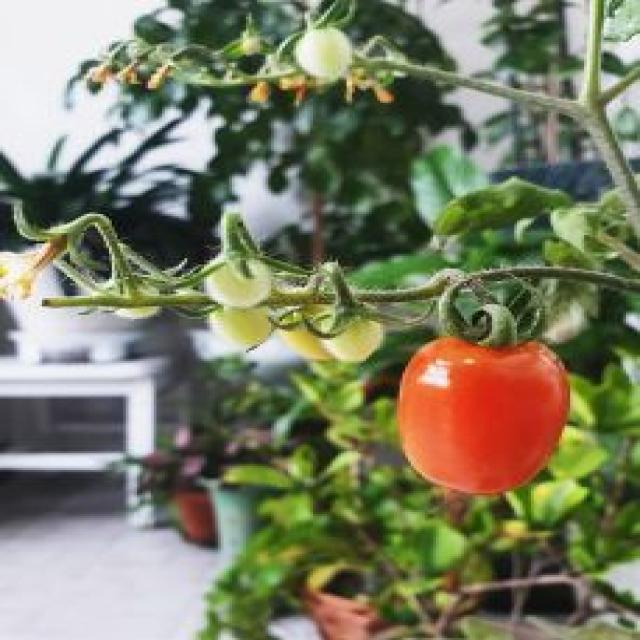level 1: (229, 27, 278, 64)
level 2: (187, 244, 286, 309), (189, 297, 273, 360), (305, 306, 383, 364), (291, 28, 368, 83), (96, 273, 164, 330)
level 3: (264, 296, 334, 374)
level 6: (402, 325, 572, 507)
